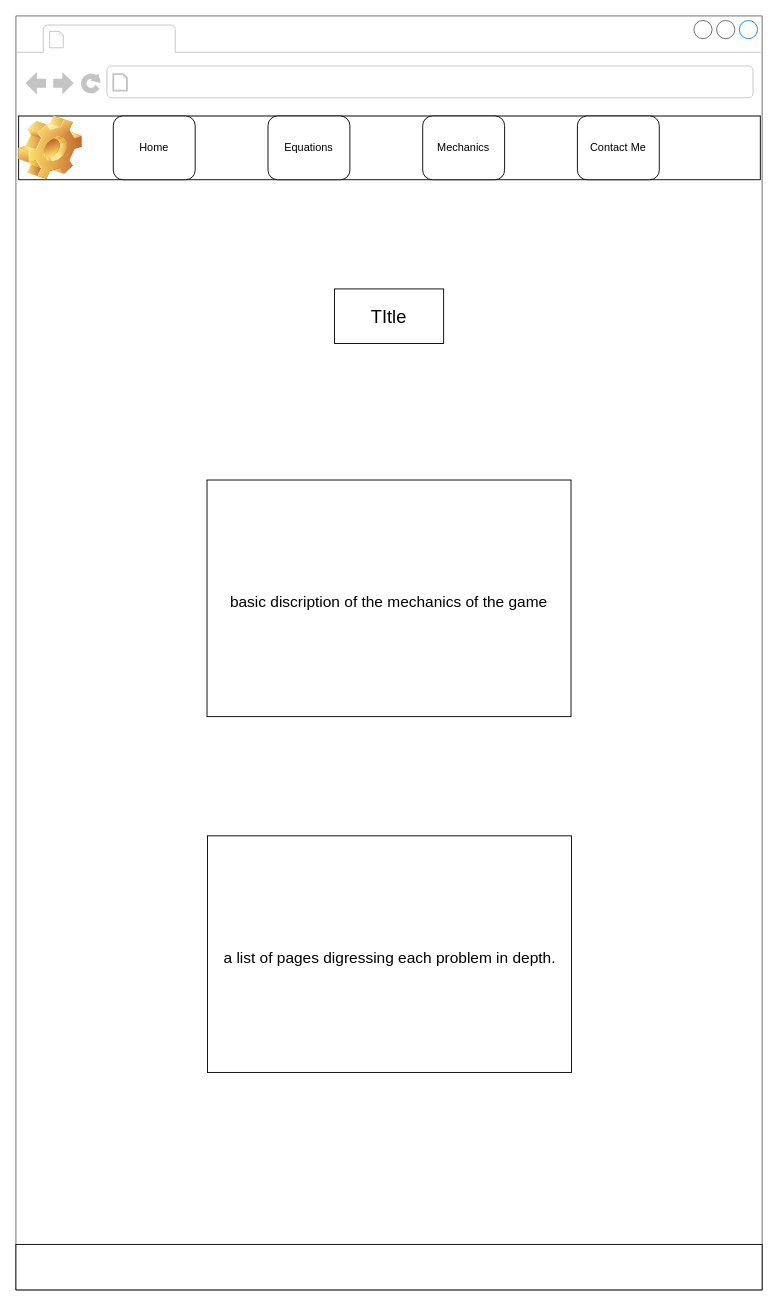
Image size: 778x1306. Some labels were removed from this diagram. Each missing label, with the centre of its shape:
footer, name, copywrite, socals: (x=388, y=1267)
Page 1: (x=120, y=38)
www.theMelee.com: (x=247, y=82)
